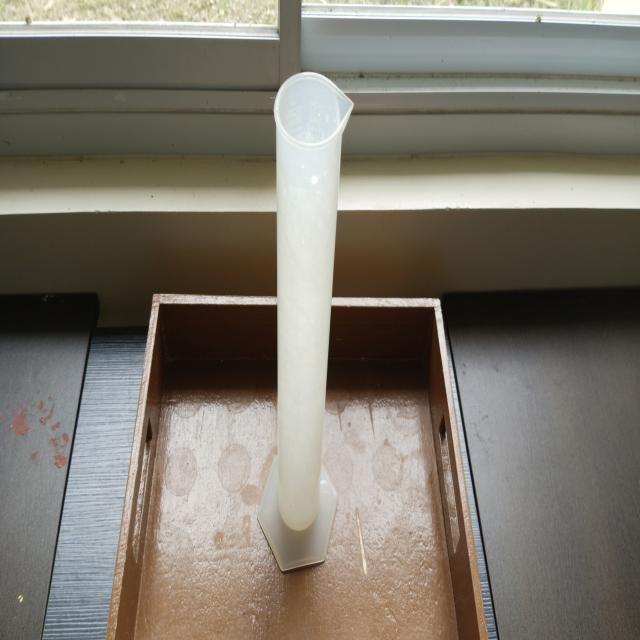graduated_cylinder: (254, 66, 356, 577)
